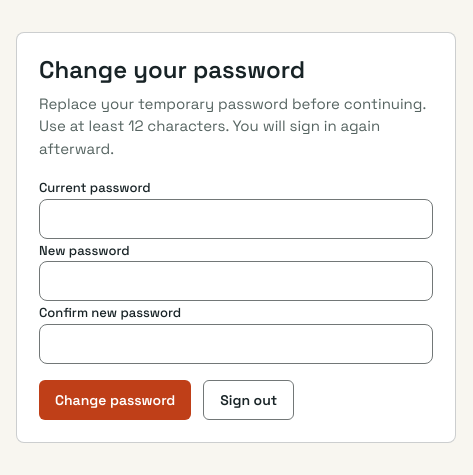
keeps the restricted form available after a server rejection
In the password field labelled "Current password": [236, 218] box [39, 198, 433, 238], type "TemporaryPassword123!"
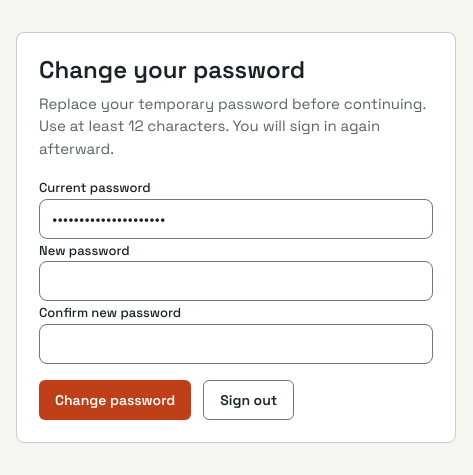
In the password field labelled "New password": [236, 281] box [39, 261, 433, 301], type "ReplacementPassword456!"
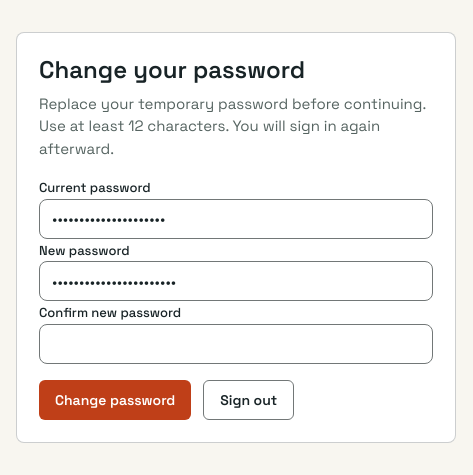
In the password field labelled "Confirm new password": [236, 344] box [39, 324, 433, 364], type "ReplacementPassword456!"
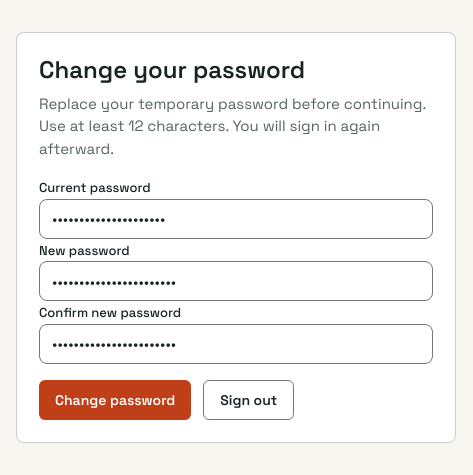
Click the button "Change password": [115, 400] box [39, 380, 191, 420]
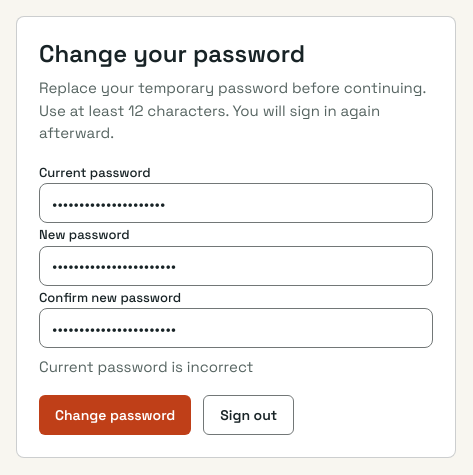
expect the message reads "Current password is incorrect": met, box [39, 357, 254, 376]
